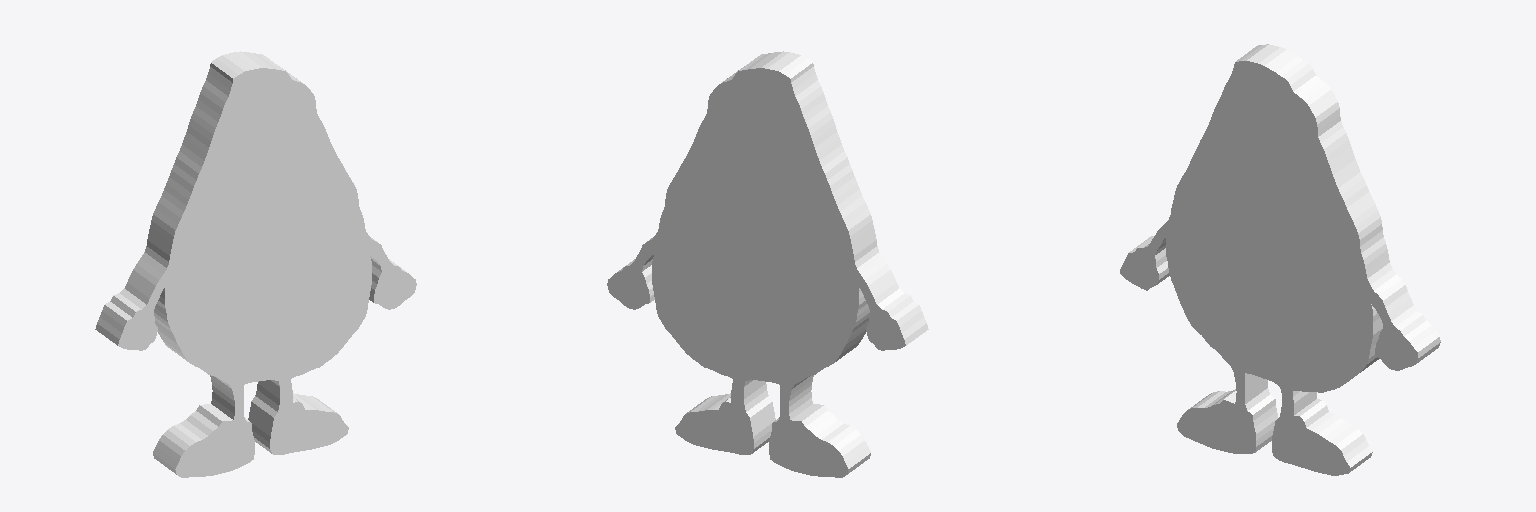
The model's file is giorgiano.obj.
3 renders of one model, left to right at view 1: azimuth 30°, elevation 25°; view 2: azimuth 150°, elevation 25°; view 3: azimuth 330°, elevation 25°, orthographic.
Visible parts, largest first — view 1: giorgiano; view 2: giorgiano; view 3: giorgiano.
Part boxes in pixels (x1,y1,x2,y2): giorgiano: (95,51,416,477); giorgiano: (607,51,928,477); giorgiano: (1120,44,1440,475).
Bounding box in the file's own units: 0.2291 × 0.2903 × 0.03.